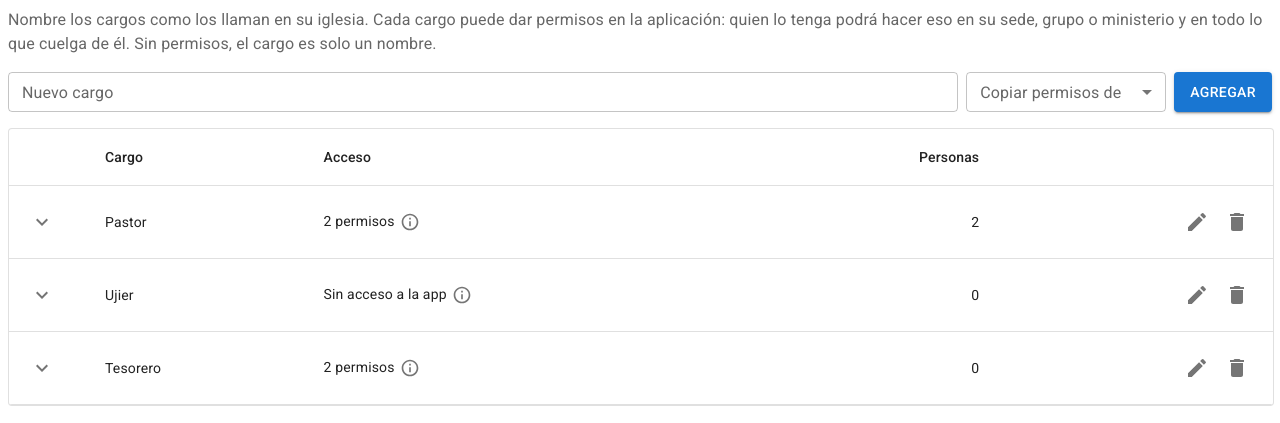
Scenario: PositionsManager › only suggests names the church does not have yet
Click the dropdown labelled "Nuevo cargo" at x=482, y=92, box 14,78 -> 949,106
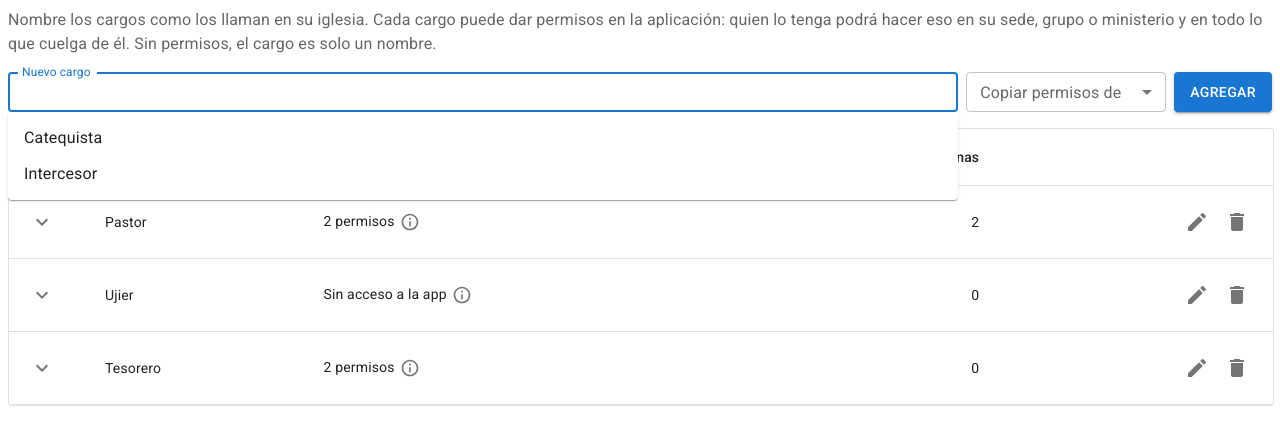
Now the option "Catequista" is shown, box 24,128 -> 102,147
